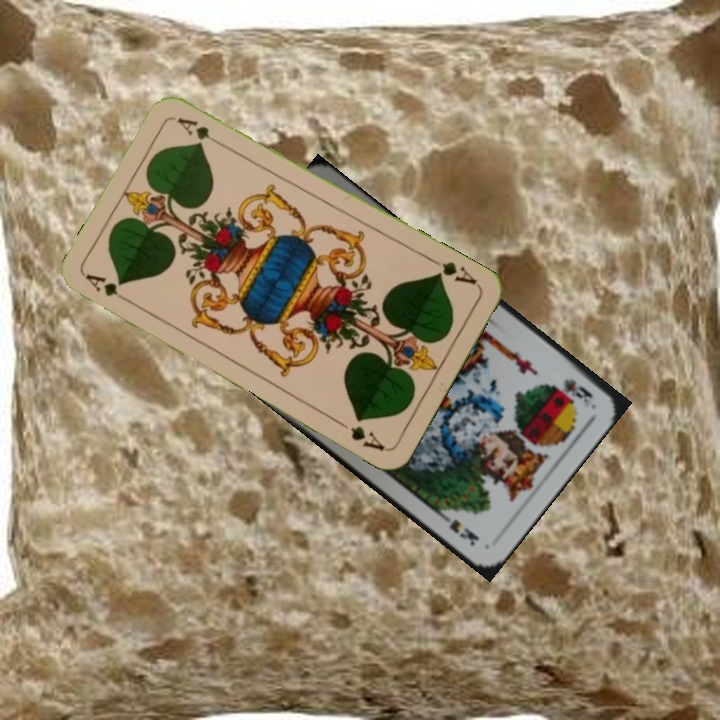GA: (81, 270, 136, 307), (425, 254, 480, 288)
SK: (559, 374, 596, 410)
